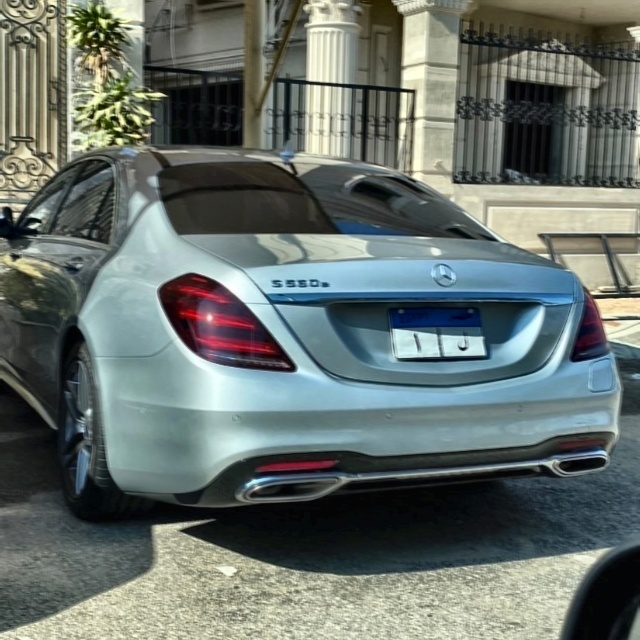License Plate: (386, 304, 486, 361)
